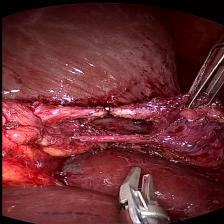Clipper: (102, 165, 176, 224)
Grasper: (171, 42, 224, 112)
